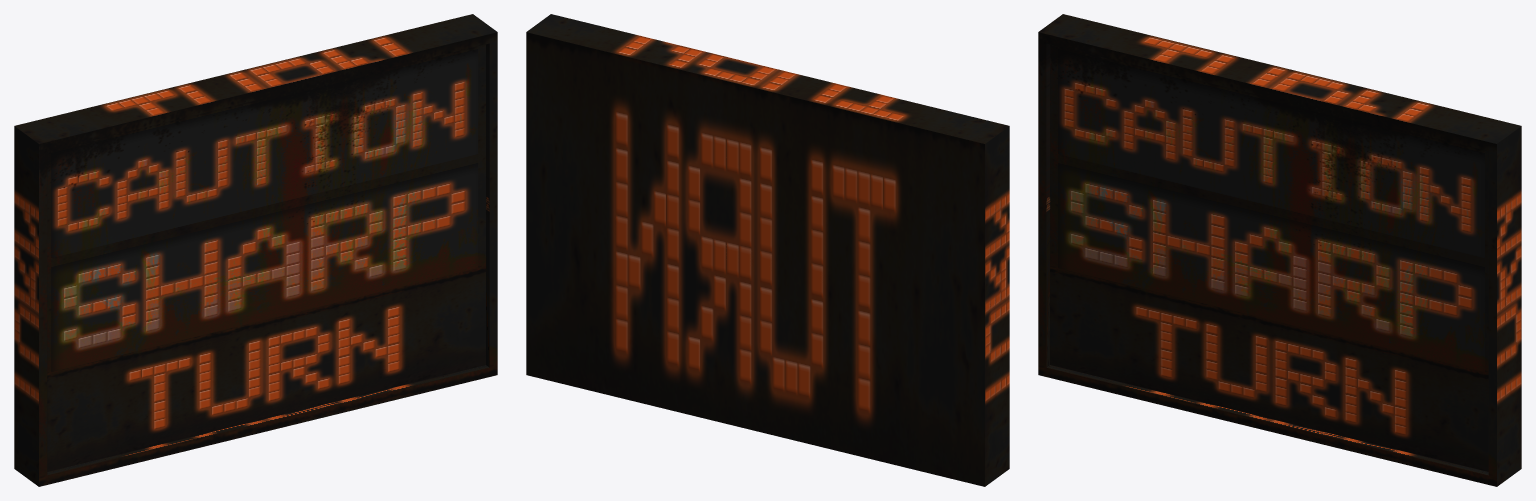
The model's file is caution_billboard.fbx.
3 views of the same model, side by side, from view 1: azimuth 30°, elevation 25°; view 2: azimuth 150°, elevation 25°; view 3: azimuth 330°, elevation 25° (orthographic).
Parts seen in each view (by area): view 1: doNotEnter; view 2: doNotEnter; view 3: doNotEnter.
Part boxes in pixels (bbox=[...]): doNotEnter: bbox=[14, 14, 497, 486]; doNotEnter: bbox=[526, 14, 1009, 486]; doNotEnter: bbox=[1038, 14, 1521, 486].
Size of the model in its own units: 7 by 5 by 0.6558.
